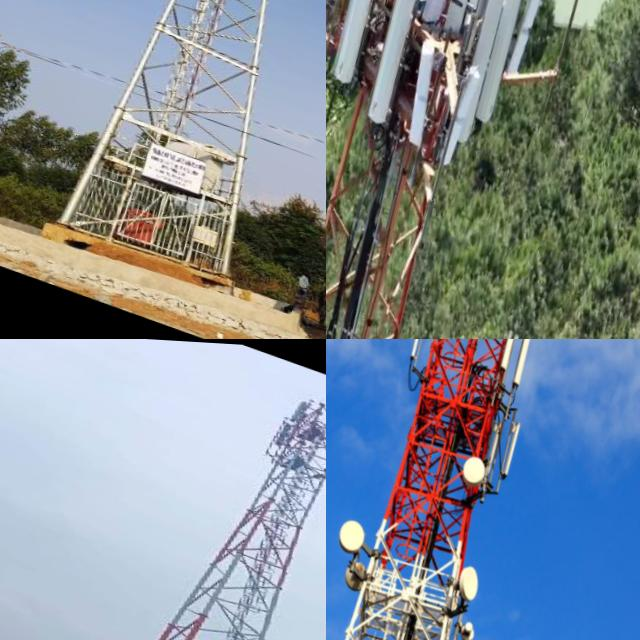GSM Antenna: (427, 0, 517, 156), (346, 0, 435, 132), (455, 0, 539, 137), (388, 27, 456, 144), (326, 0, 401, 95), (493, 0, 556, 86), (483, 406, 528, 485), (500, 339, 538, 396), (392, 339, 439, 372), (487, 339, 525, 373), (287, 390, 310, 422), (271, 413, 294, 445)
Microwave Antenna: (444, 439, 493, 503), (442, 555, 484, 608), (326, 507, 369, 558), (330, 552, 373, 598), (444, 613, 474, 640)
